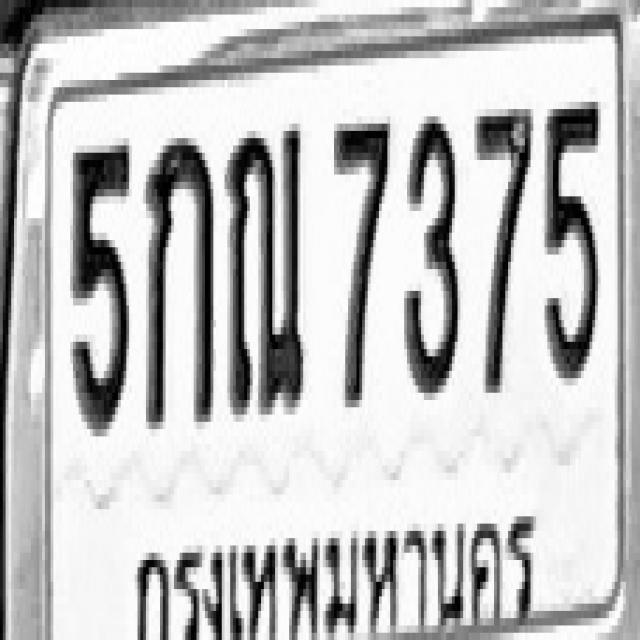10GorGai: (143, 131, 213, 429)
28NorNen: (226, 116, 305, 414)
3: (403, 106, 459, 397)
5: (70, 138, 129, 436), (543, 98, 599, 382)
7: (331, 116, 390, 408), (473, 102, 532, 393)
Bangkok: (129, 499, 545, 640)
